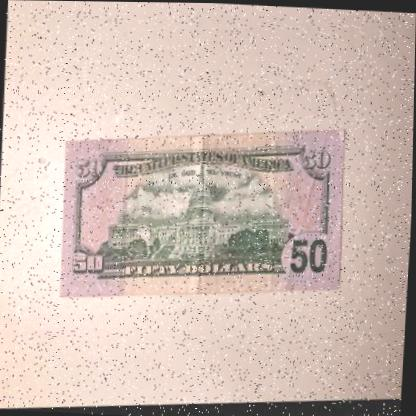dollar_back: (56, 118, 347, 312)
